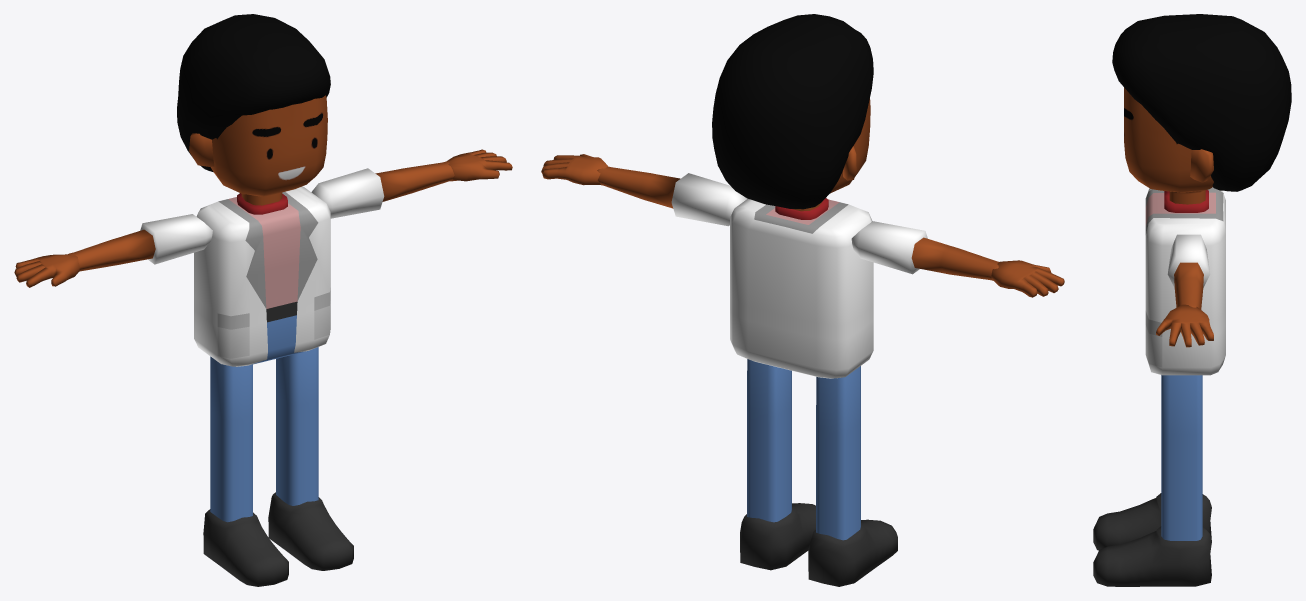
Rendered from NPC_Yellow02_BlackHair04.gltf.
3 views of the same model, side by side, from view 1: azimuth 30°, elevation 25°; view 2: azimuth 150°, elevation 25°; view 3: azimuth 270°, elevation 25° (orthographic). The views are drawn at different scales.
Parts seen in each view (by area): view 1: NPC_Corpo_Yellow2_BlackHair.004; view 2: NPC_Corpo_Yellow2_BlackHair.004; view 3: NPC_Corpo_Yellow2_BlackHair.004.
Boxes of the visible parts, left/top/right/bottom form: NPC_Corpo_Yellow2_BlackHair.004: left=14, top=14, right=512, bottom=586; NPC_Corpo_Yellow2_BlackHair.004: left=541, top=14, right=1064, bottom=586; NPC_Corpo_Yellow2_BlackHair.004: left=1093, top=14, right=1291, bottom=586.
Size of the model in its own units: 2.31 by 2.3 by 0.7742.
1 material, 1 textured.
